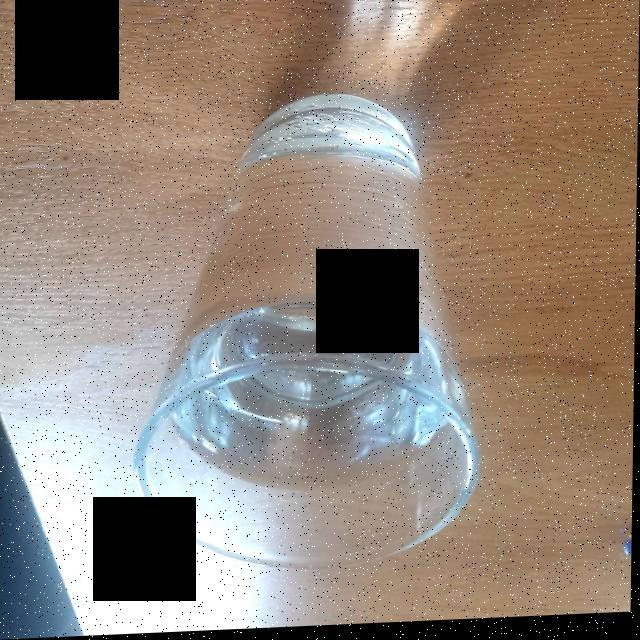water: (170, 119, 465, 473)
